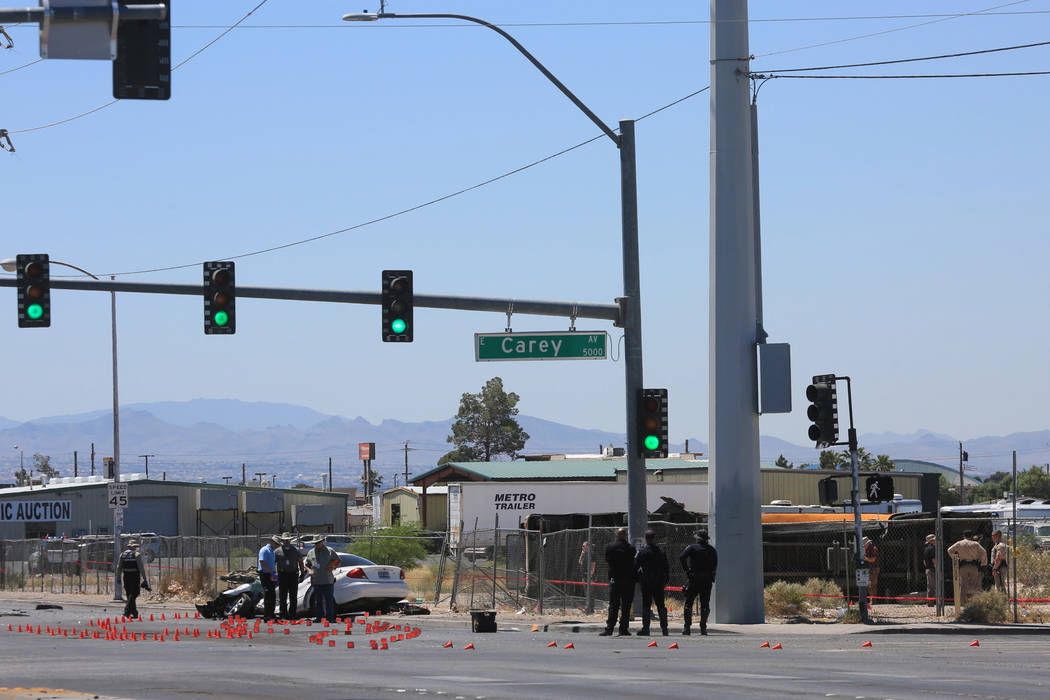traffic_light: (21, 258, 47, 322), (207, 267, 233, 329), (386, 276, 410, 338), (640, 395, 664, 453)
